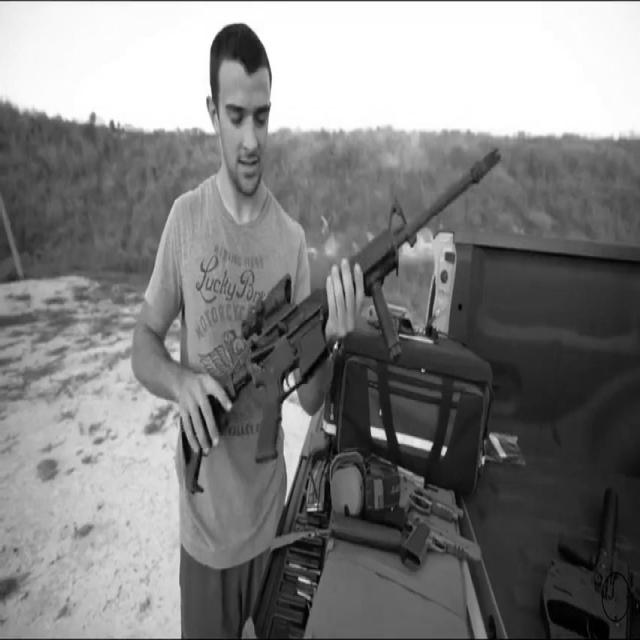Sniper: (160, 111, 506, 516)
